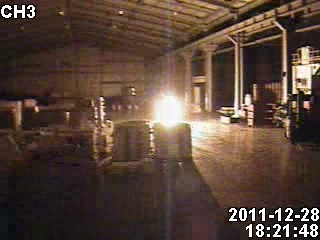fire: (153, 92, 184, 128)
